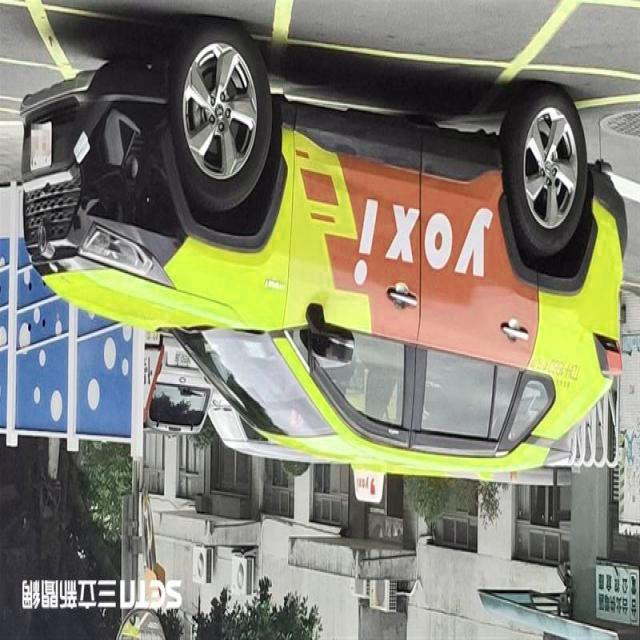taxi: (14, 24, 637, 498)
